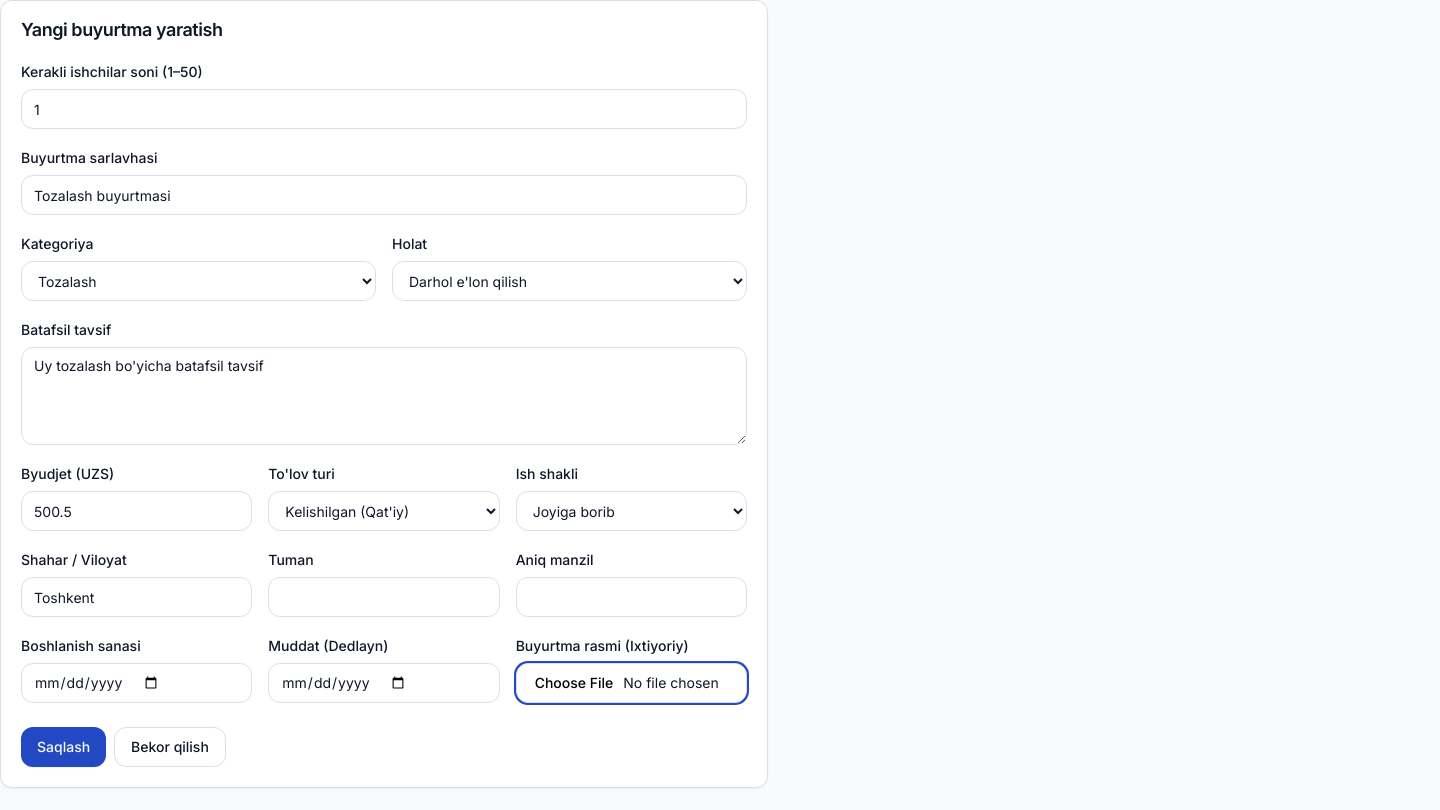
Scenario: Everyday local navigation and forms › retries a failed image upload on the saved order, without creating a duplicate
The width and height of the screenshot is (1440, 810).
Earlier steps of the test are not shown.
Step 1. Click the button "Saqlash" → (64, 747), box [21, 727, 106, 767]
(page scrolled)
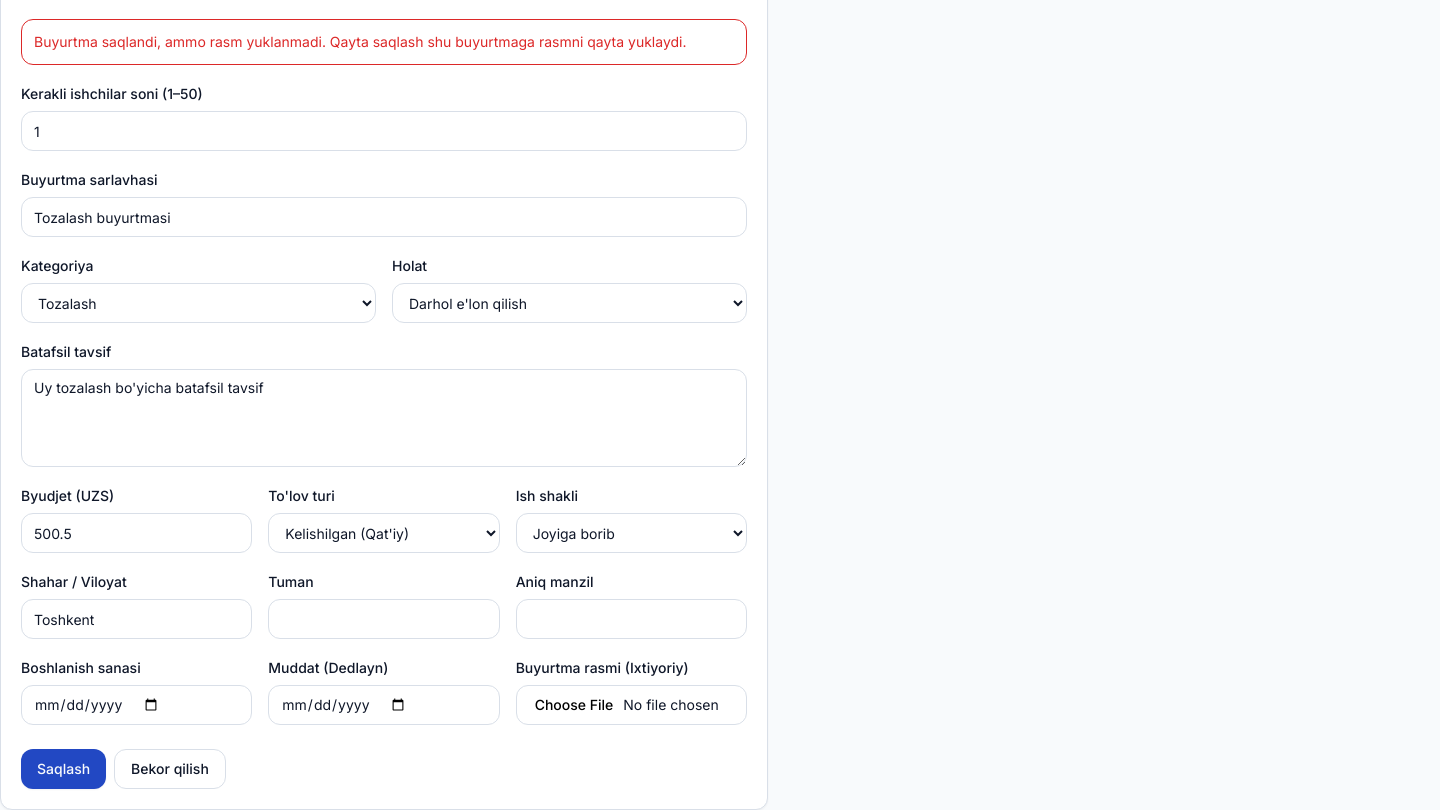
expect the message shows "Buyurtma saqlandi, ammo rasm yuklanmadi": met, box [34, 33, 686, 50]
Step 2. Click the button "Saqlash" → (64, 769), box [21, 749, 106, 789]
(page scrolled)
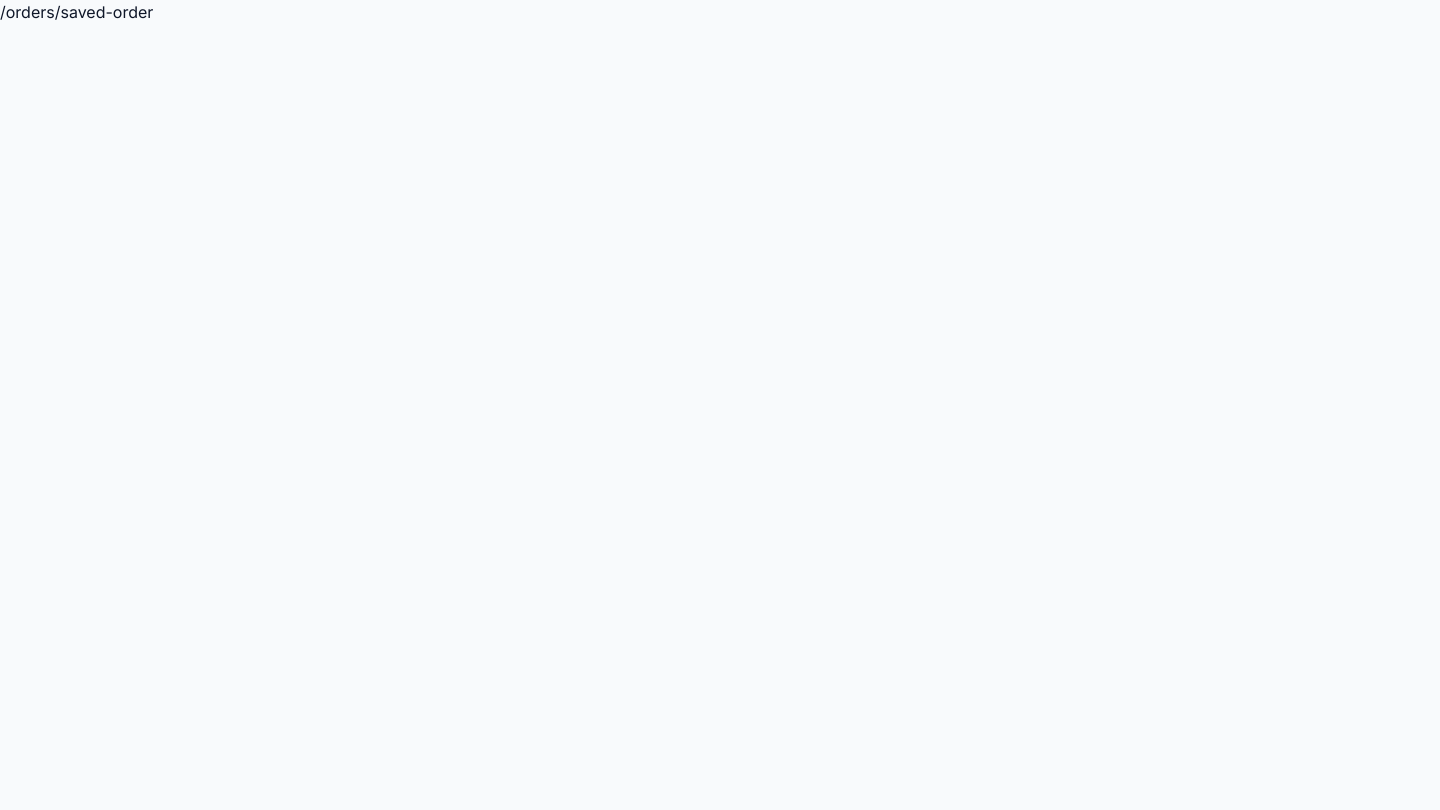
expect the text "/orders/saved-order" is shown: met, box [0, 2, 153, 22]
